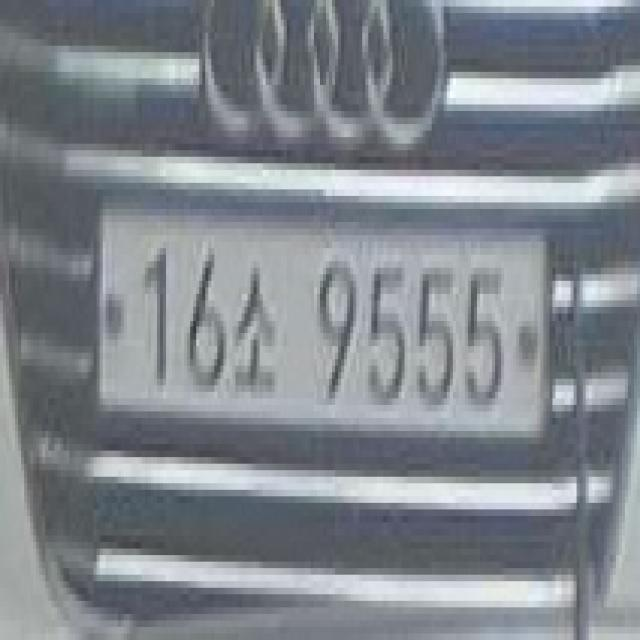1: (139, 235, 175, 392)
5: (462, 255, 510, 418), (365, 255, 411, 405), (413, 262, 459, 412)
6: (184, 242, 227, 398)
9: (317, 248, 356, 405)
license_plate: (94, 190, 556, 470)
so: (232, 262, 281, 398)
